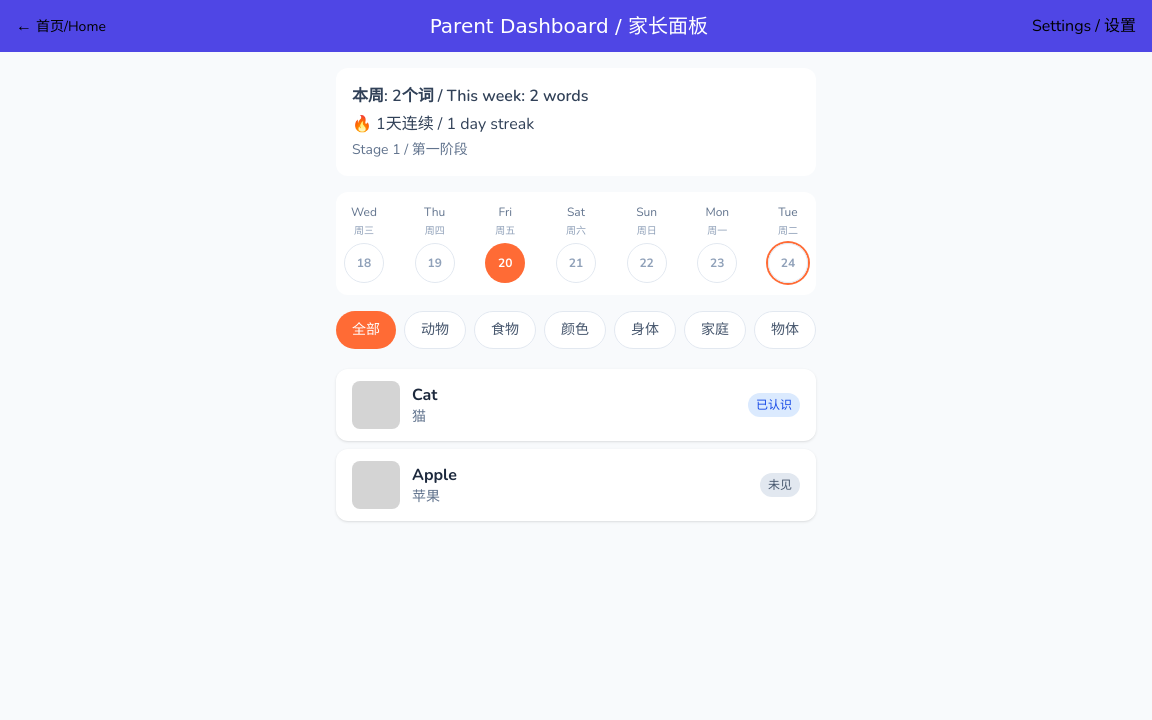
Test: ParentDashboard › shows all words when 全部 tab selected
Click the button "动物".
click(435, 330)  # box x1=404 y1=311 x2=466 y2=349
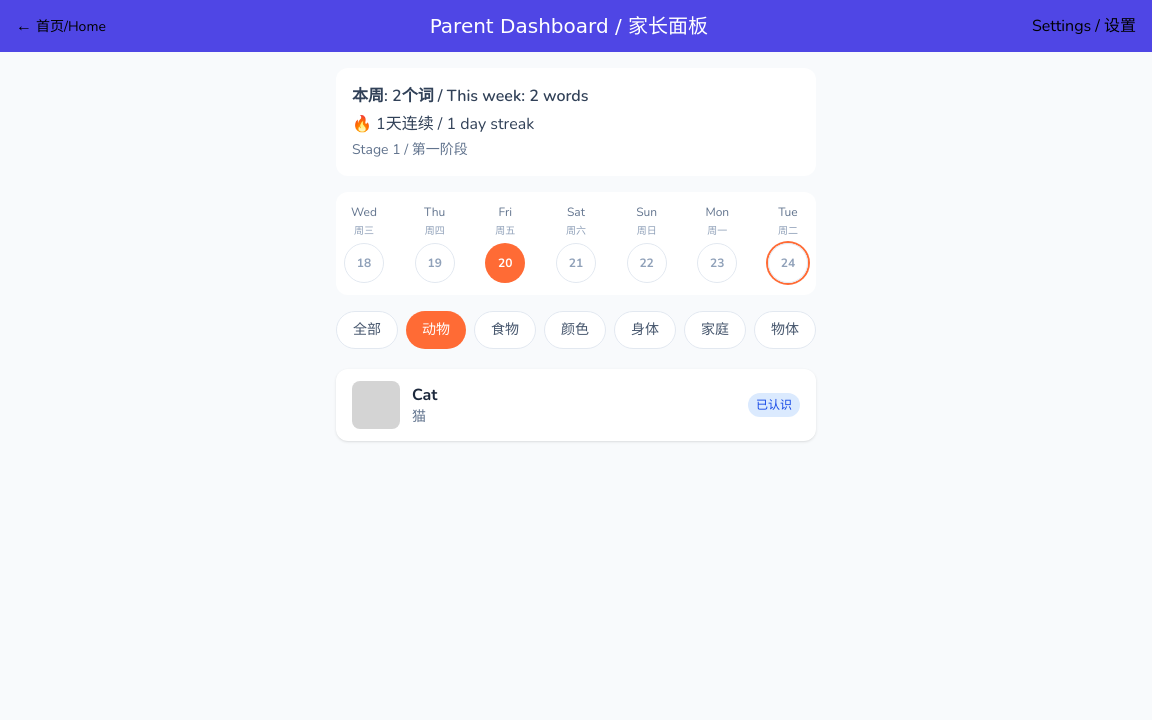
Click the button "全部".
click(367, 330)  # box x1=336 y1=311 x2=398 y2=349
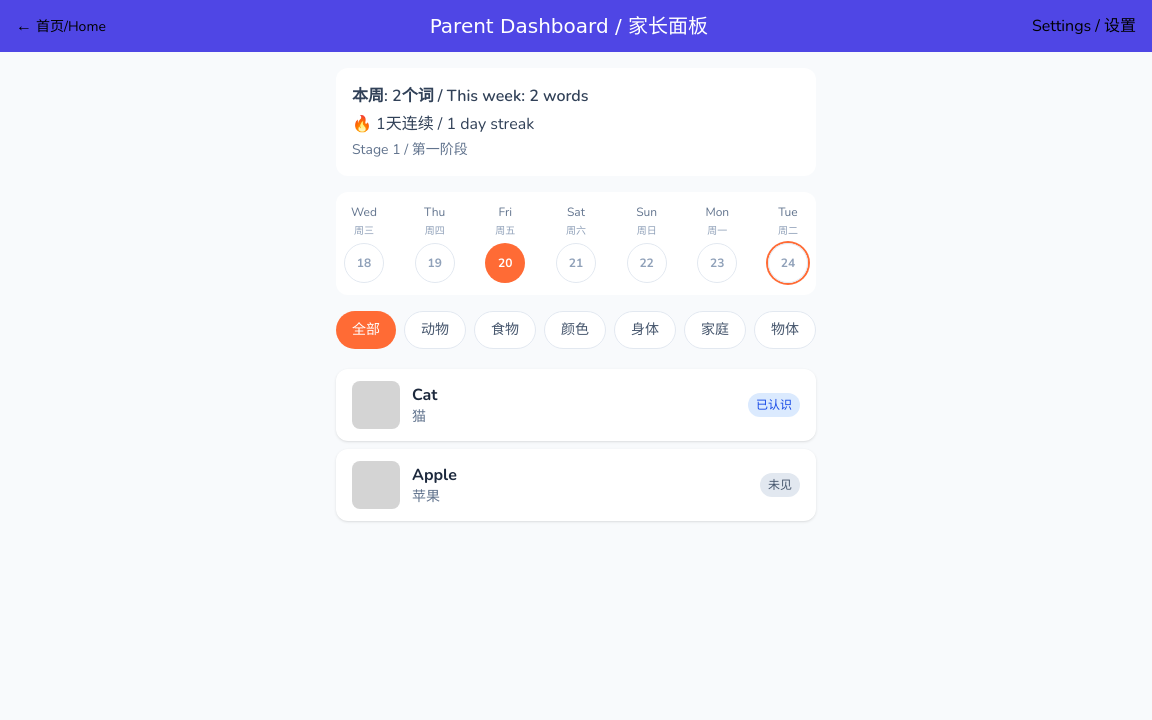
Now the number of buttons with test id "word-row" is 2, box x1=336 y1=369 x2=816 y2=441; x1=336 y1=449 x2=816 y2=521
